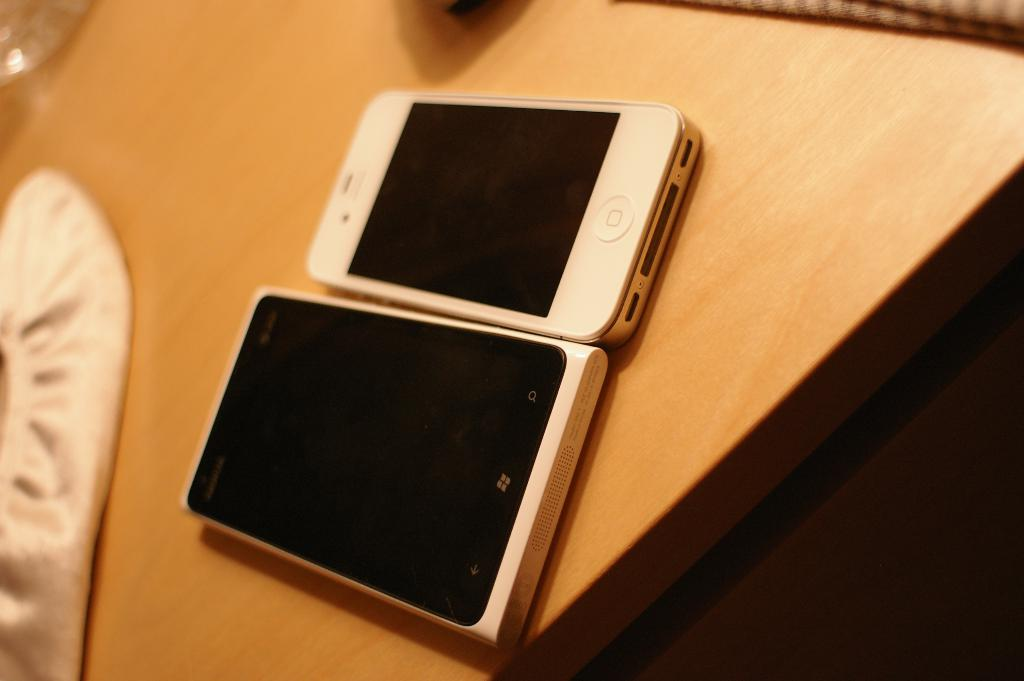Mobile-phone: (185, 284, 609, 651), (305, 93, 695, 350)
